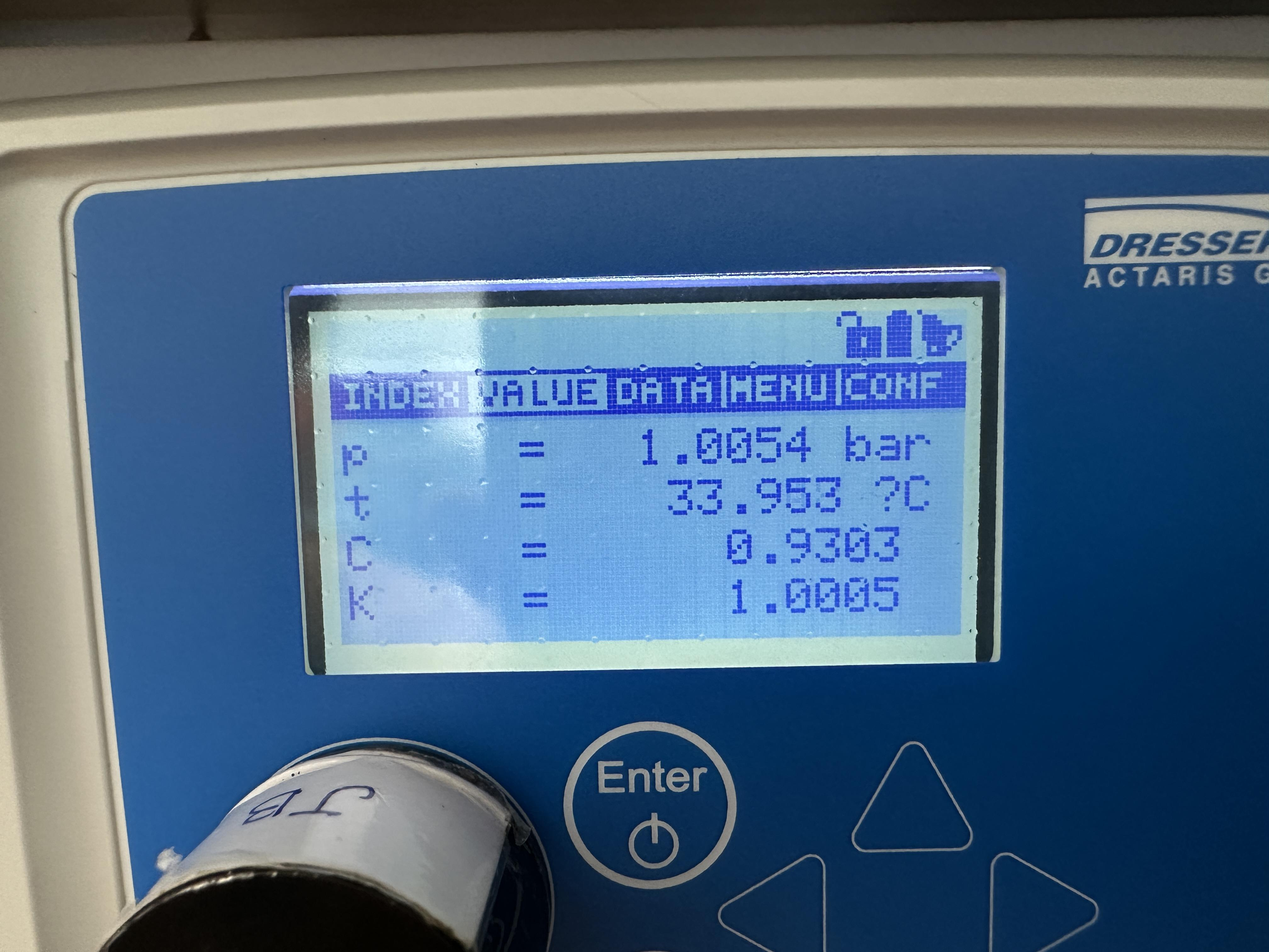digital_screen: (311, 297, 991, 679)
